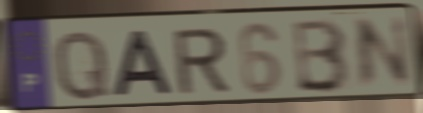6: (235, 20, 287, 98)
A: (111, 27, 177, 100)
B: (292, 16, 353, 96)
N: (353, 14, 414, 94)
Q: (52, 27, 113, 104)
R: (170, 25, 232, 97)
